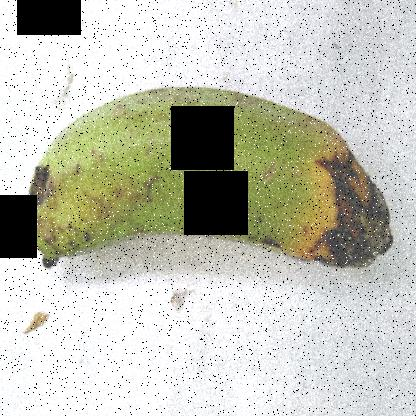unripe: (19, 69, 306, 282)
